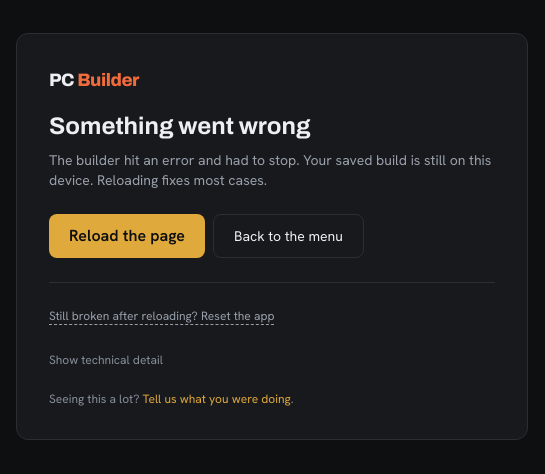
ErrorBoundary › cancel hides the confirmation without touching localStorage
The image size is (545, 474).
Click the button "Still broken after reloading? Reset the app". click: {"x": 162, "y": 316}
box: [49,308,274,324]
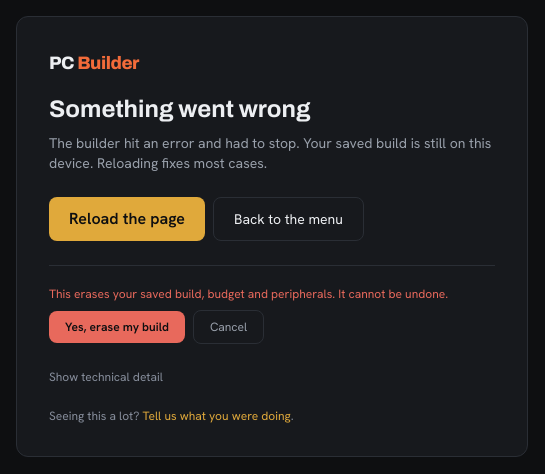
Click the button "Cancel". click: {"x": 229, "y": 326}
box: [193,310,264,344]
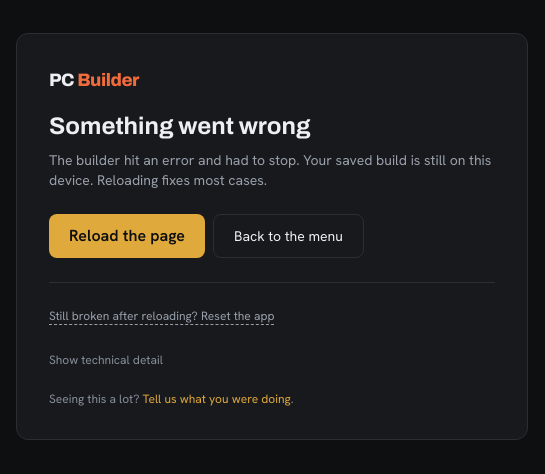
Expected: the button "Yes, erase my build" is gone
